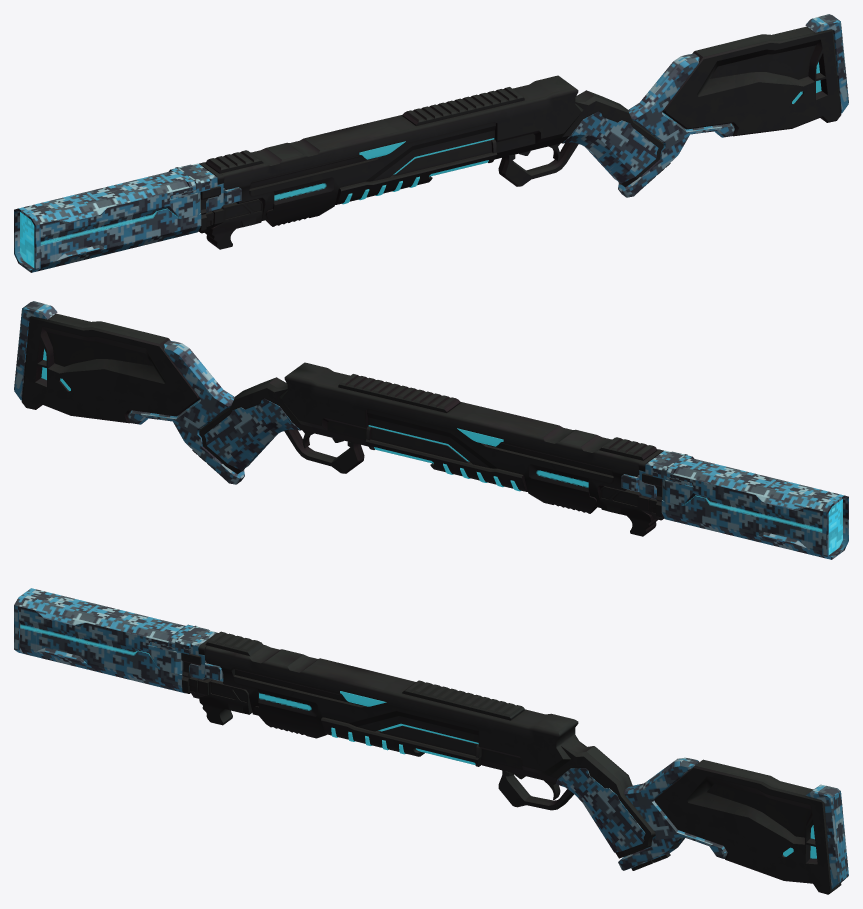
File: shotgun2.fbx
3 views of the same model, one above another, from view 1: azimuth 30°, elevation 25°; view 2: azimuth 150°, elevation 25°; view 3: azimuth 330°, elevation 25° (orthographic).
Visible parts, largest first — view 1: Shotgun2; view 2: Shotgun2; view 3: Shotgun2.
Part boxes in pixels (bbox=[...]): Shotgun2: bbox=[14, 14, 848, 272]; Shotgun2: bbox=[14, 301, 848, 559]; Shotgun2: bbox=[14, 588, 848, 894].
Size of the model in its own units: 642 by 99.32 by 35.21.
